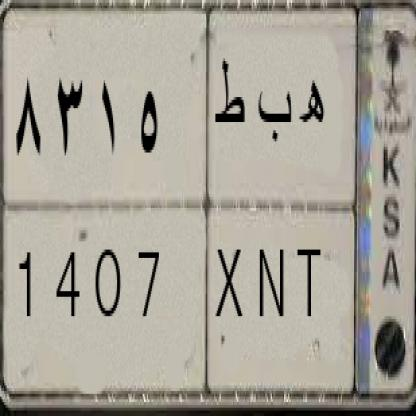english: (1, 202, 356, 392)
